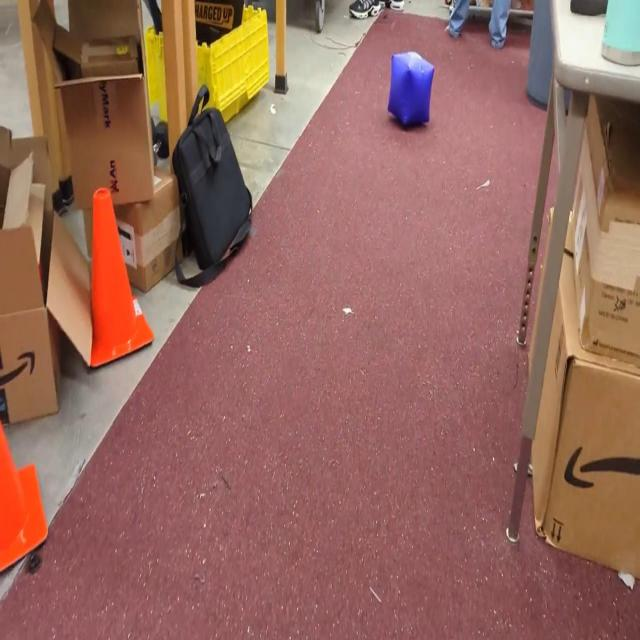frc_cube: (388, 48, 436, 131)
